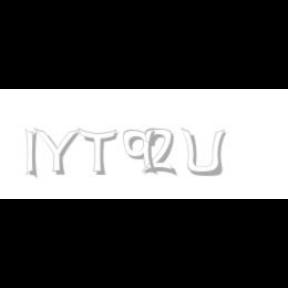2: (141, 128, 175, 176)
T: (77, 128, 117, 176)
U: (180, 128, 226, 178)
Y: (33, 128, 79, 176)
l: (25, 128, 41, 180)
q: (123, 128, 159, 176)
